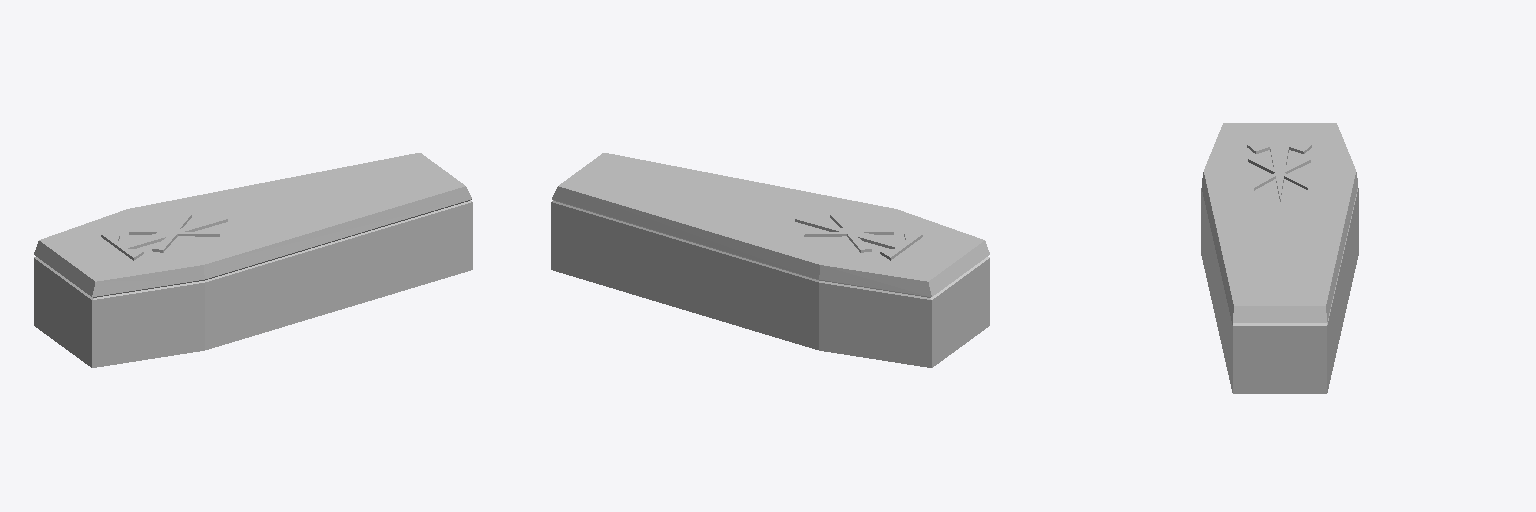
The model's file is dbtkc.obj.
3 renders of one model, left to right at view 1: azimuth 30°, elevation 25°; view 2: azimuth 150°, elevation 25°; view 3: azimuth 270°, elevation 25°, orthographic.
Parts seen in each view (by area): view 1: Cube; view 2: Cube; view 3: Cube.
Part boxes in pixels (left/top/right/bottom): Cube: left=34, top=153, right=472, bottom=367; Cube: left=551, top=153, right=989, bottom=367; Cube: left=1201, top=123, right=1358, bottom=393.
Size of the model in its own units: 7.65 by 1.66 by 2.69.